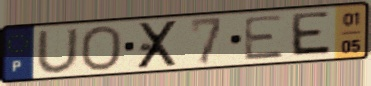7: (189, 14, 224, 67)
E: (287, 10, 334, 59), (242, 13, 287, 62)
O: (79, 24, 125, 73)
U: (34, 26, 81, 75)
X: (135, 18, 182, 72)
